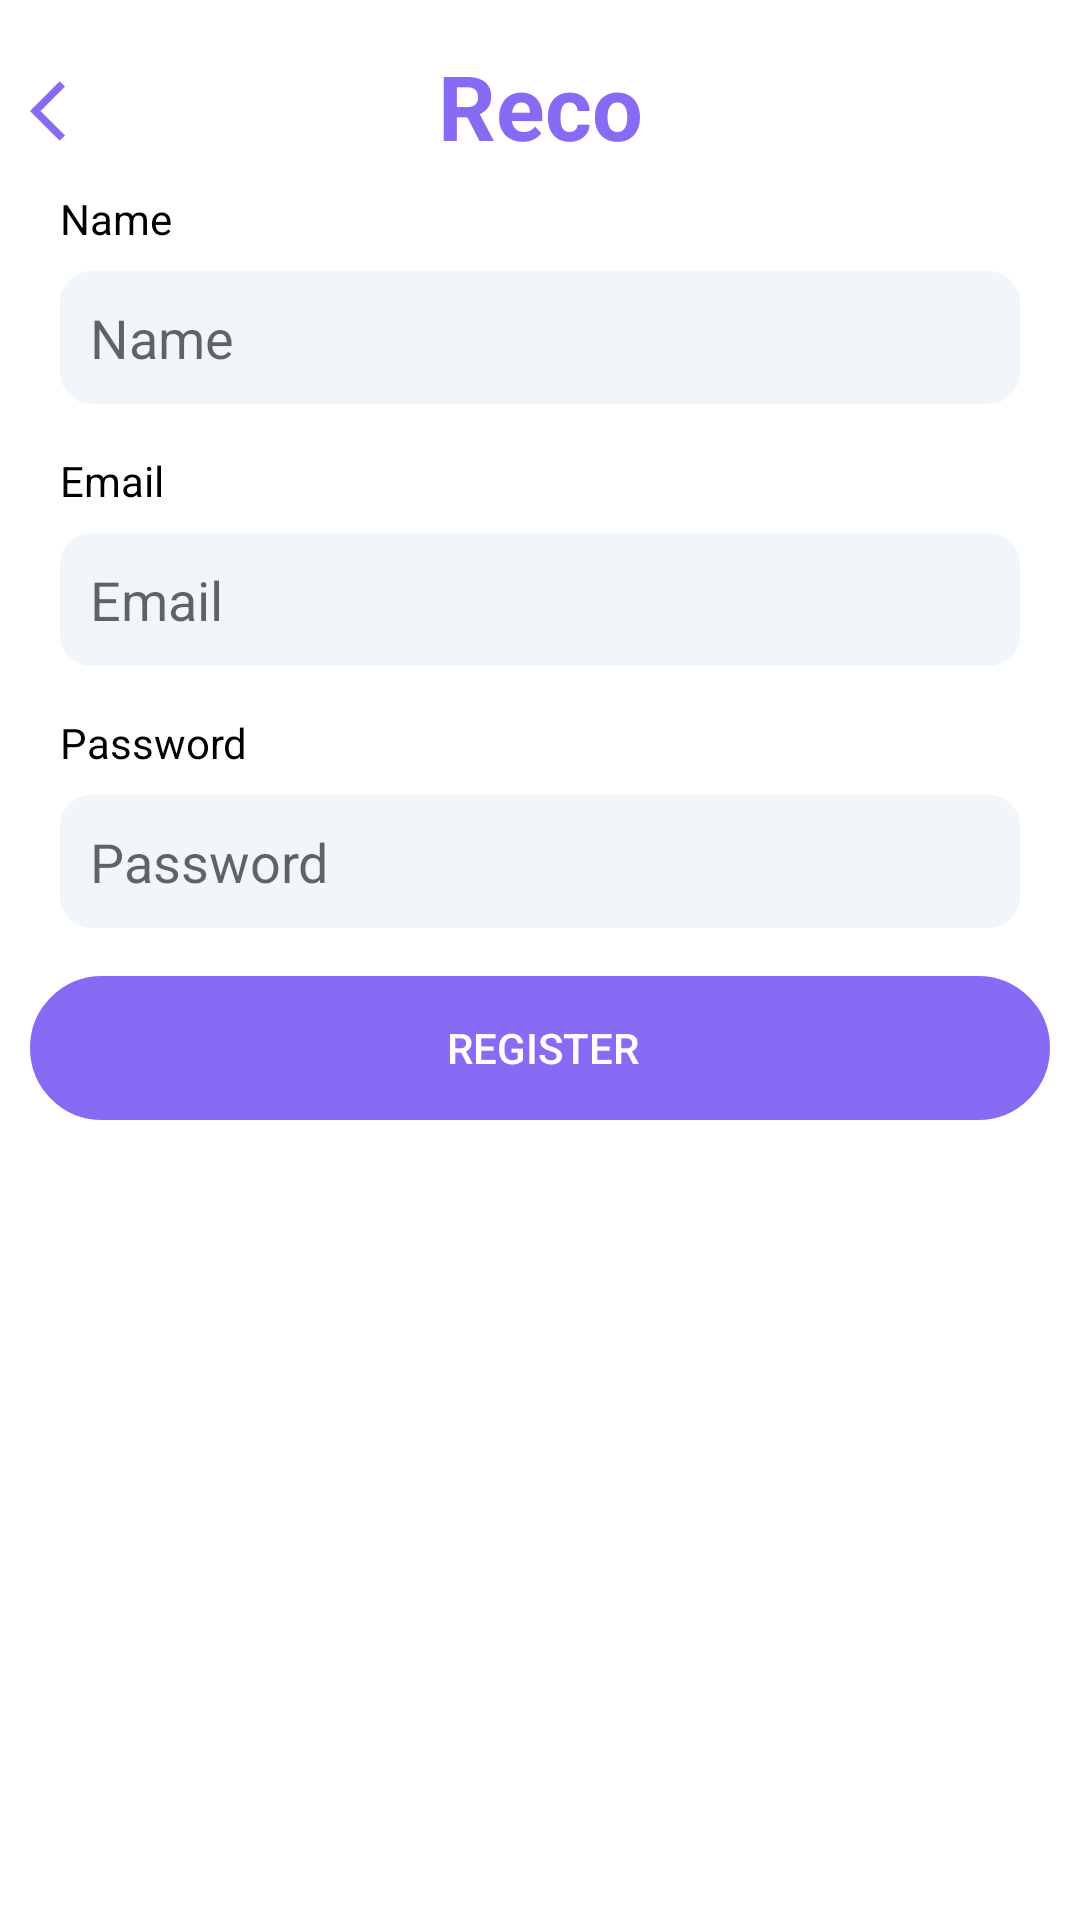

Icons on this 1080 × 1920 Android screen, each with the point to tap as (x,y):
back: (47,111)
